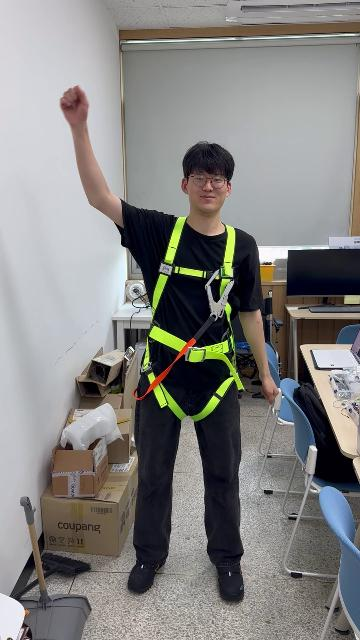helmet_not_worn: (179, 139, 239, 192)
shoe_worn: (128, 556, 168, 593), (215, 566, 244, 601)
vest_worn: (139, 218, 246, 411)
